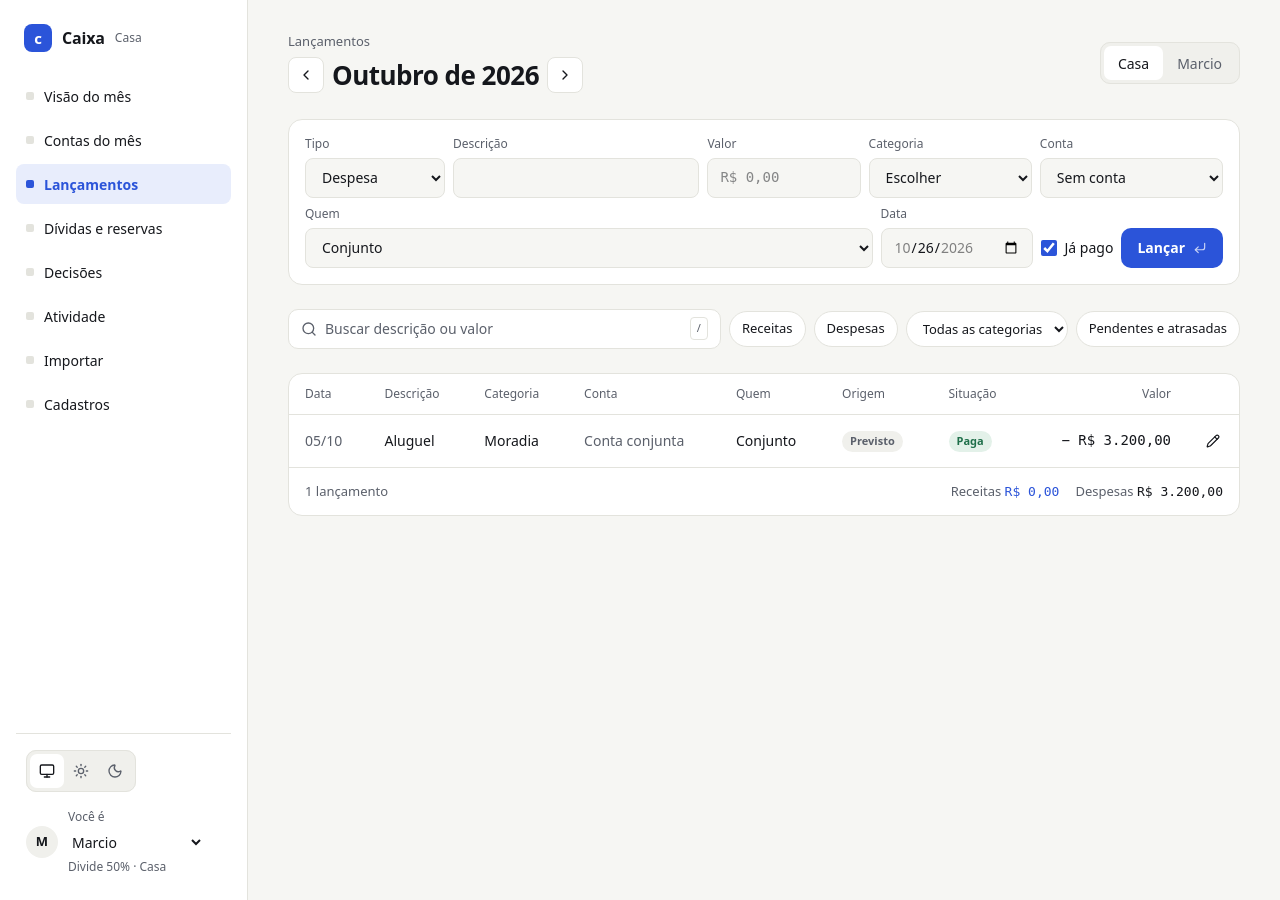
Test: corrects an entry from its row, keeps the payment date, then cancels the replacement
Step 1. Click the button named "Corrigir Aluguel" → (1213, 440), box 1195,420 -> 1231,460
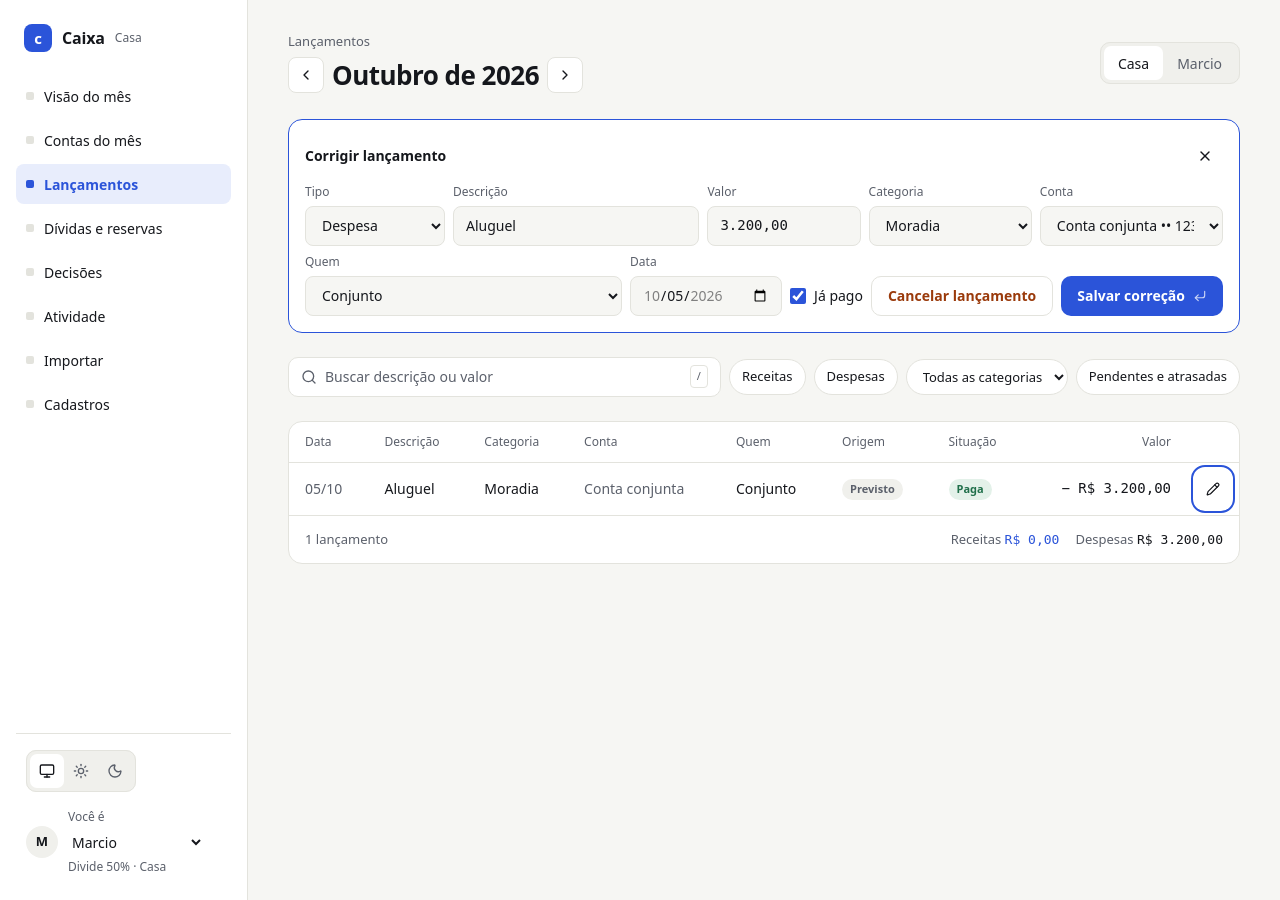
Expected: the checkbox is checked, 790,288 -> 806,304
Result: the field labelled "Valor" holds "3.200,00"
Result: the dropdown labelled "Categoria" shows "Moradia" at 869,206 -> 1032,246
Step 2. Replace the text in the field labelled "Valor" with "3.300,00" → (784, 226), box 707,206 -> 861,246
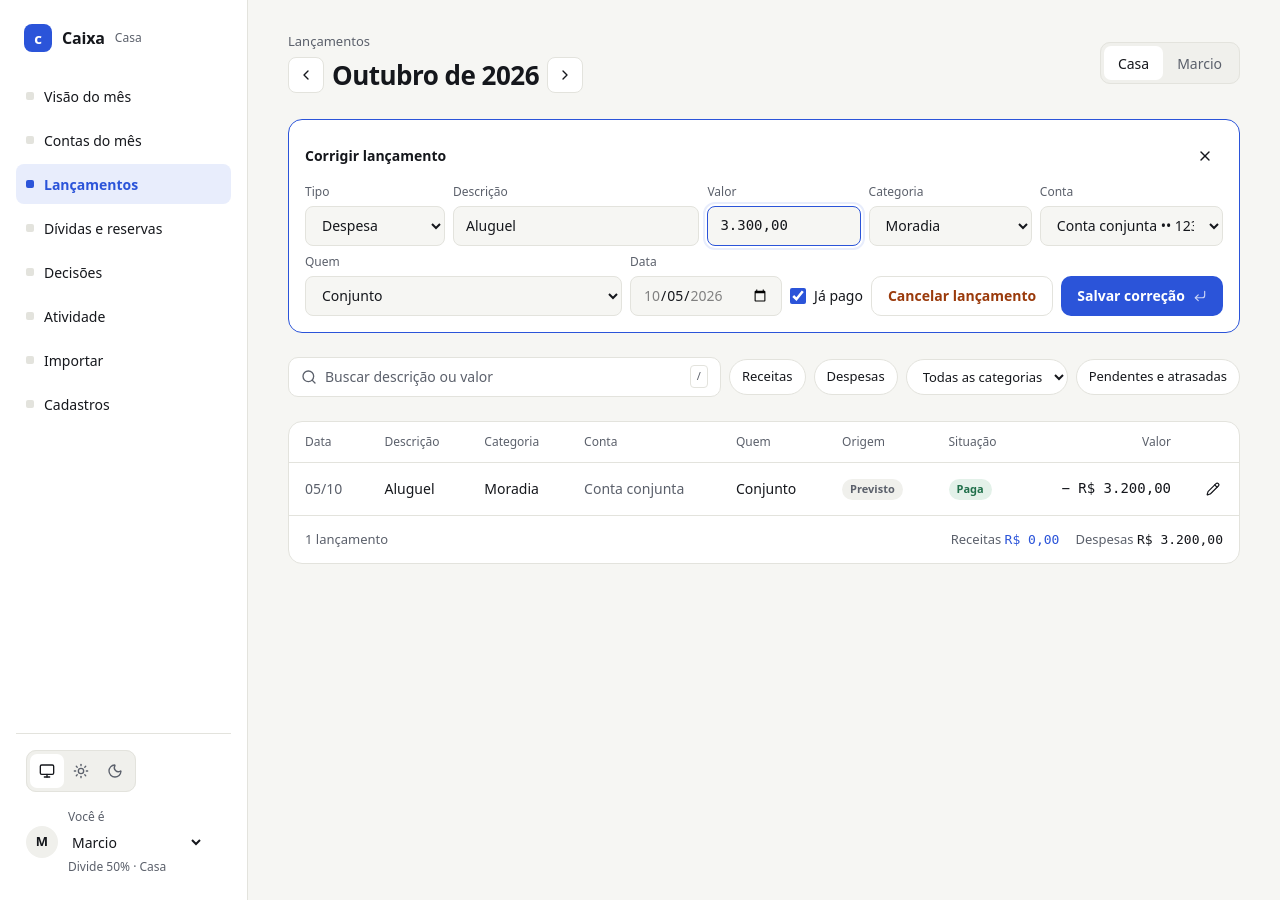
Step 3. Click the button "Salvar correção" → (1142, 296), box 1061,276 -> 1223,316
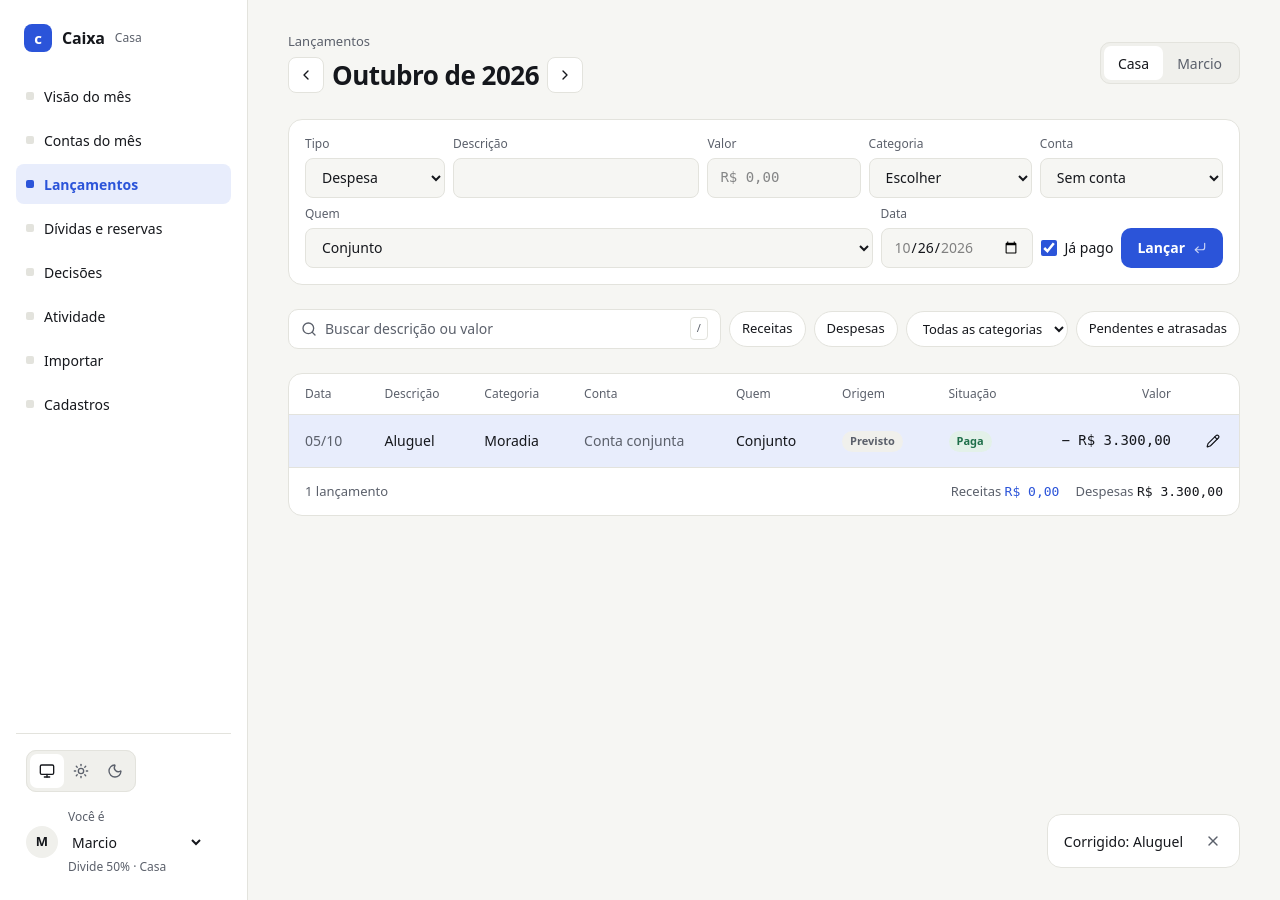
Result: the text "Corrigido: Aluguel" is shown at 1064,830 -> 1183,852
Step 4. Click the button named "Corrigir Aluguel" → (1213, 440), box 1195,420 -> 1231,460
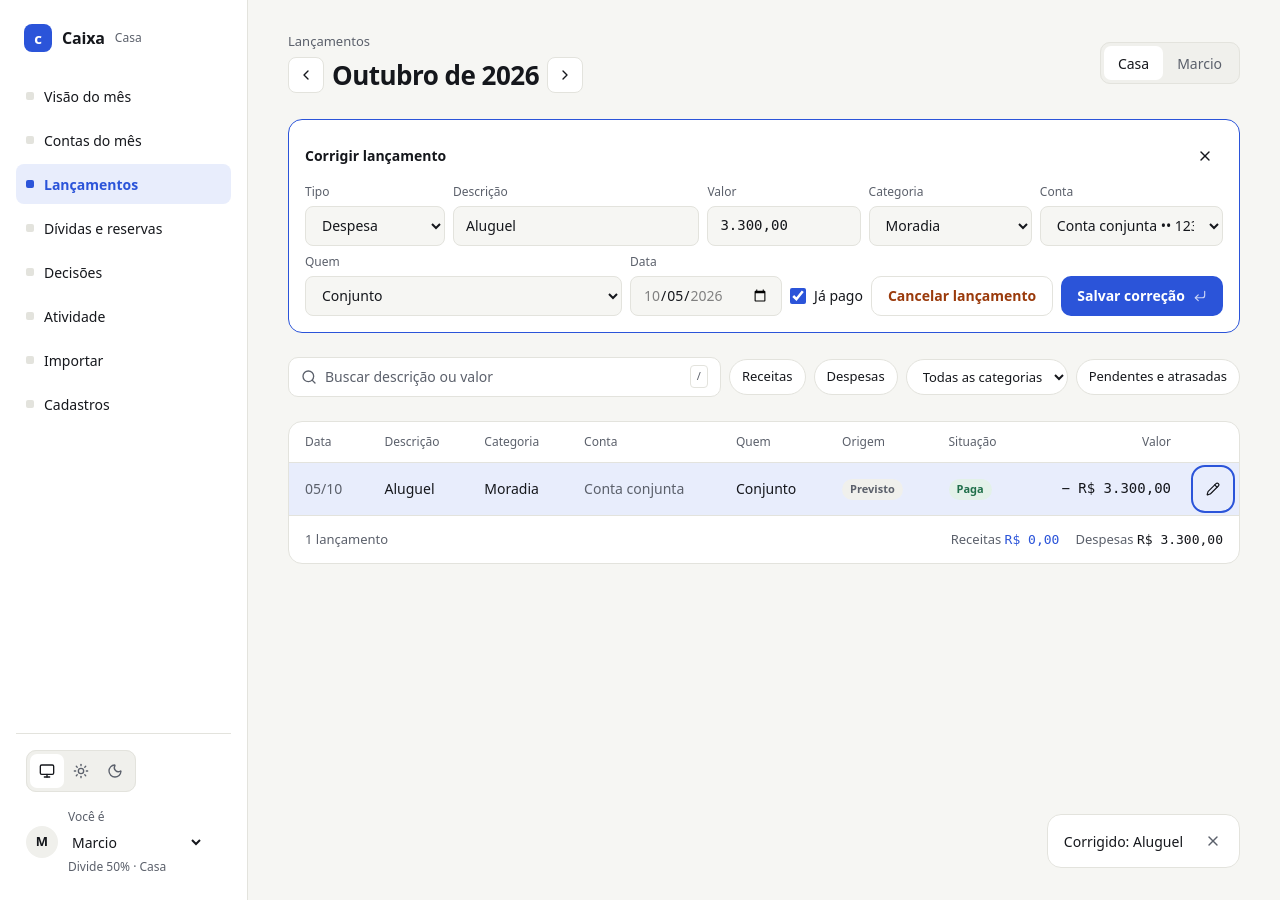
Step 5. Click the button "Cancelar lançamento" → (962, 296), box 871,276 -> 1053,316
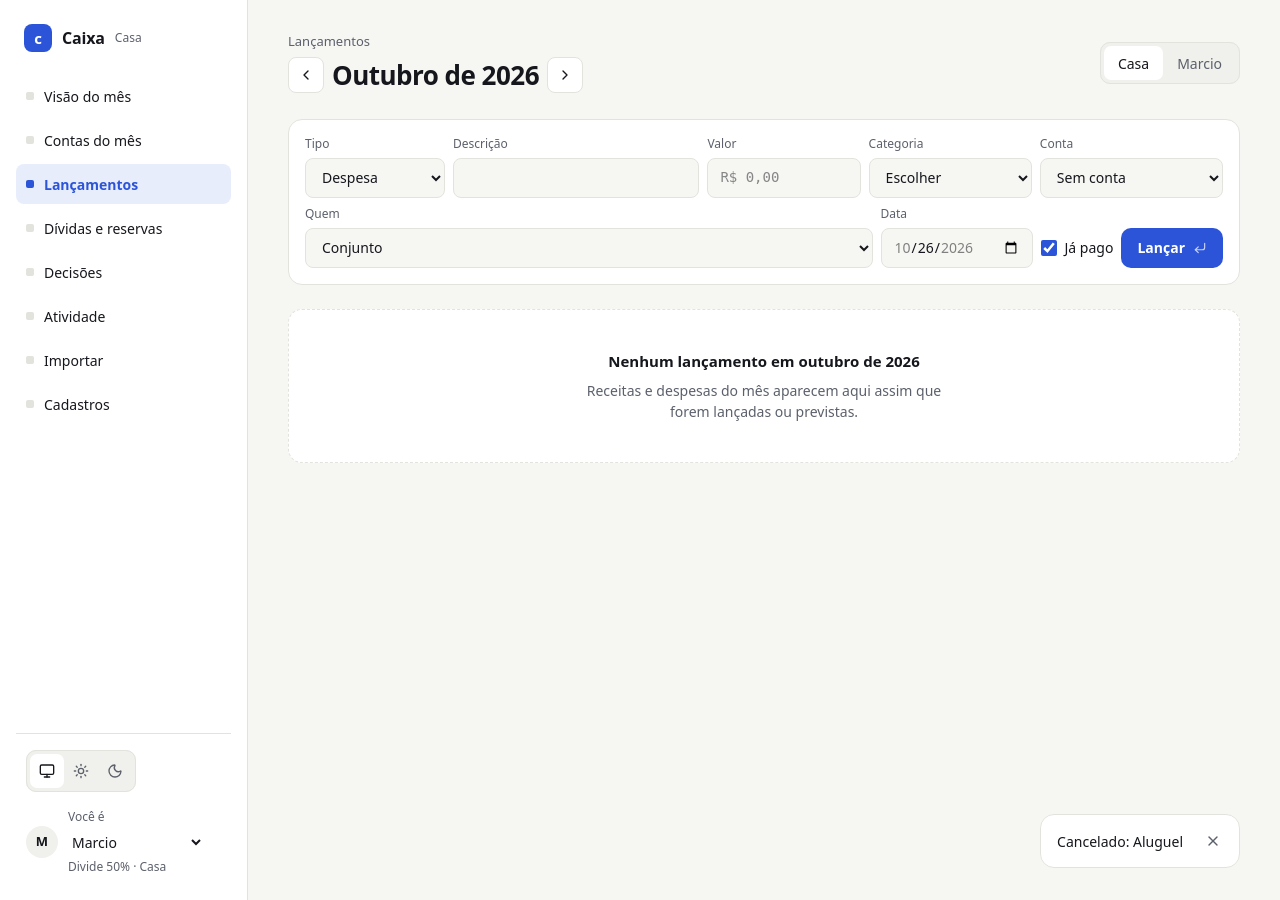
Result: the text "Cancelado: Aluguel" is shown at 1057,830 -> 1183,852
Result: the table is gone
